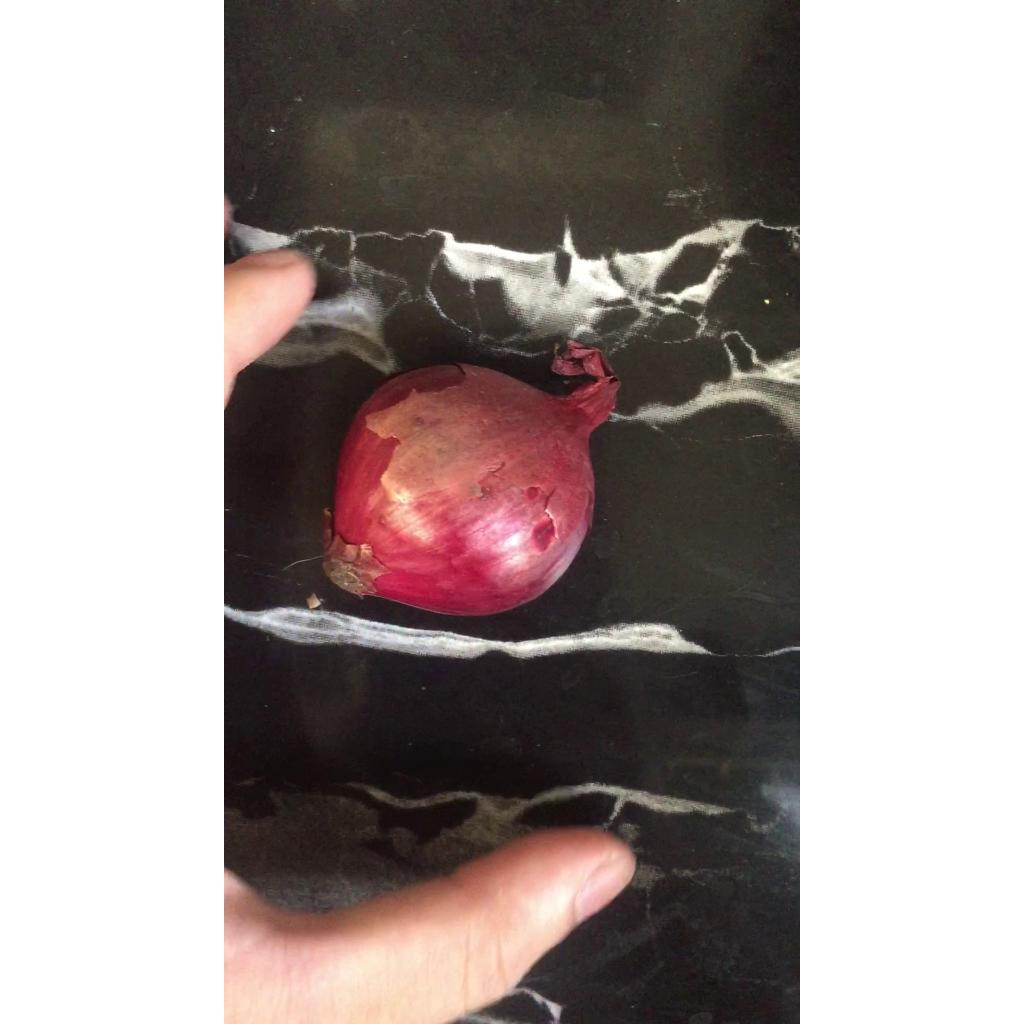Onion: (322, 341, 619, 615)
